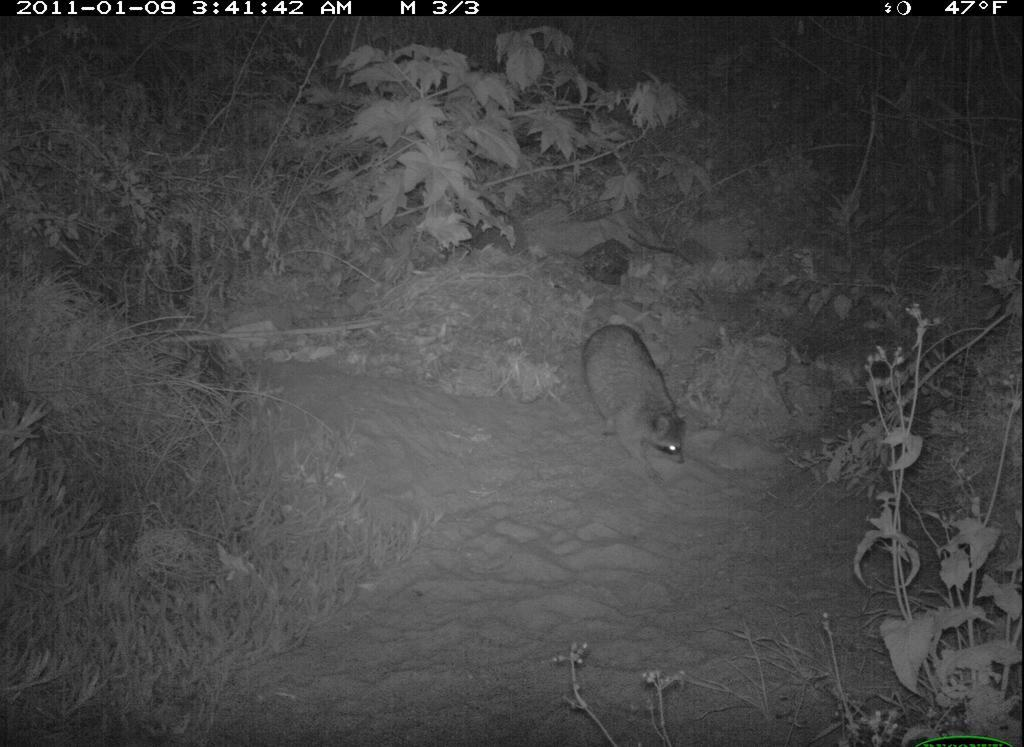raccoon: (573, 319, 696, 487)
